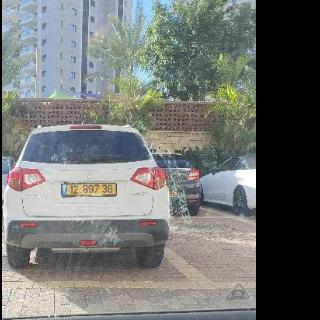LicensePlate: (68, 184, 116, 194)
